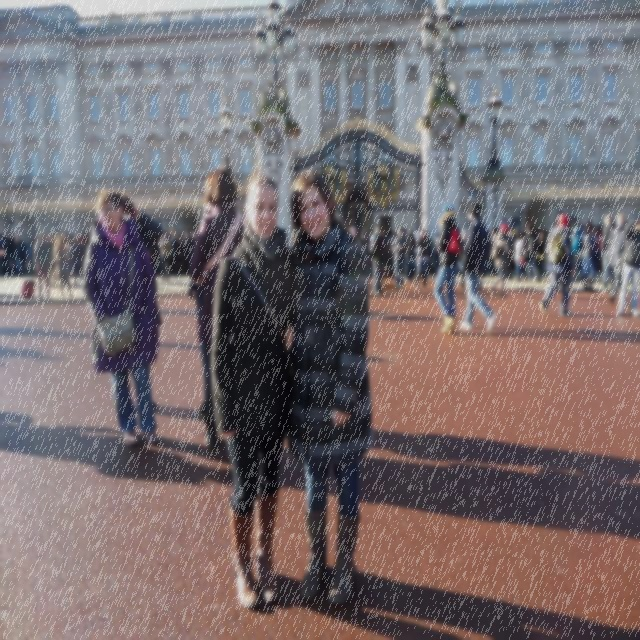pessoa: (195, 172, 311, 620), (286, 168, 374, 604), (367, 430, 640, 538), (80, 188, 162, 448), (1, 410, 228, 502), (190, 166, 247, 451), (101, 192, 159, 416), (456, 202, 498, 333), (538, 214, 577, 318), (432, 202, 462, 336), (499, 321, 638, 344), (0, 321, 65, 366), (615, 217, 640, 318), (606, 212, 626, 304), (490, 223, 510, 297), (580, 222, 600, 294), (32, 231, 52, 300), (600, 214, 616, 294), (53, 238, 74, 298), (391, 226, 409, 291), (521, 224, 540, 284), (370, 227, 386, 294), (414, 227, 430, 291), (369, 224, 382, 292), (46, 234, 60, 289), (569, 226, 583, 280), (0, 232, 17, 276), (71, 234, 85, 286), (159, 230, 172, 282), (404, 227, 416, 282), (457, 229, 467, 288), (75, 234, 86, 286), (386, 228, 398, 274), (489, 225, 499, 278), (5, 236, 18, 276), (398, 229, 409, 275), (536, 232, 546, 281), (172, 232, 182, 275), (14, 233, 24, 276), (595, 224, 604, 271), (506, 229, 514, 281), (182, 234, 192, 275), (514, 232, 522, 282), (484, 227, 492, 277), (54, 232, 62, 278), (26, 236, 35, 276), (412, 230, 420, 274), (521, 231, 528, 280), (434, 232, 442, 274), (382, 232, 390, 274), (150, 242, 160, 274), (31, 234, 38, 278), (20, 239, 28, 275), (350, 226, 364, 246), (178, 234, 185, 274), (62, 235, 72, 262), (360, 230, 370, 256), (366, 235, 372, 278), (580, 219, 592, 239), (190, 230, 198, 260), (0, 238, 6, 275), (82, 232, 90, 255), (425, 230, 432, 256), (202, 202, 212, 218), (170, 230, 176, 256), (511, 225, 517, 241), (568, 224, 573, 236), (477, 278, 482, 290), (183, 231, 188, 243), (34, 234, 40, 244), (578, 224, 584, 232), (80, 238, 86, 246), (542, 227, 548, 234), (536, 228, 540, 238), (386, 231, 390, 241), (394, 230, 398, 239), (403, 228, 408, 235), (518, 228, 522, 236), (86, 233, 90, 240)
